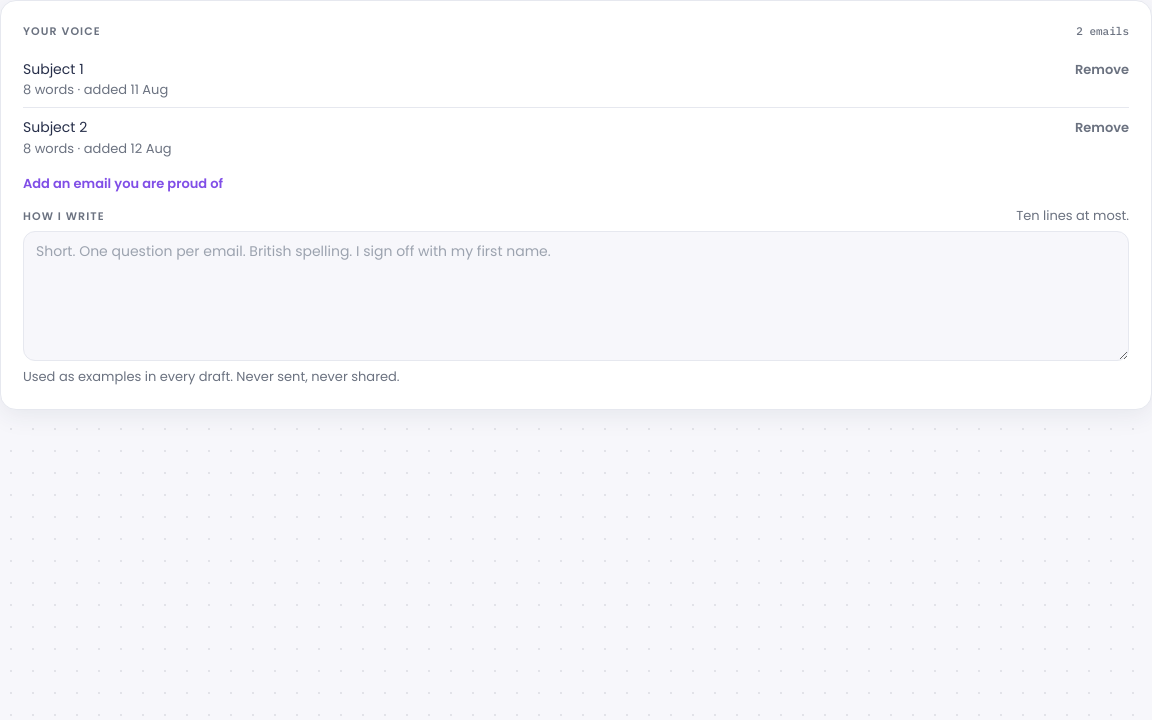
the Your voice card › removes an email at once, says Removed, and the adapter agrees
Click the button "Remove" in the row of "Subject 2". click: {"x": 1102, "y": 128}
box: [1075, 118, 1129, 138]
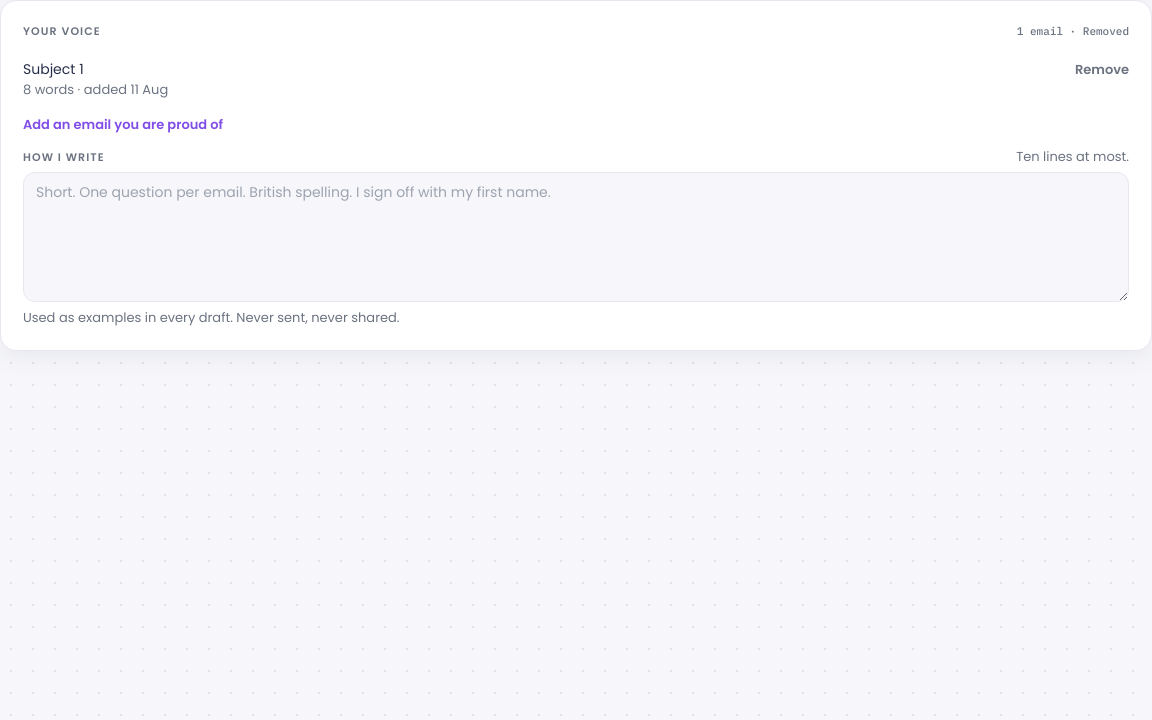
Check: the text "1 email" is shown, box [1017, 24, 1063, 38]
